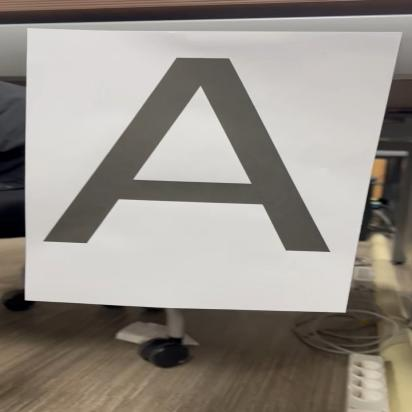seat: (35, 52, 333, 252)
